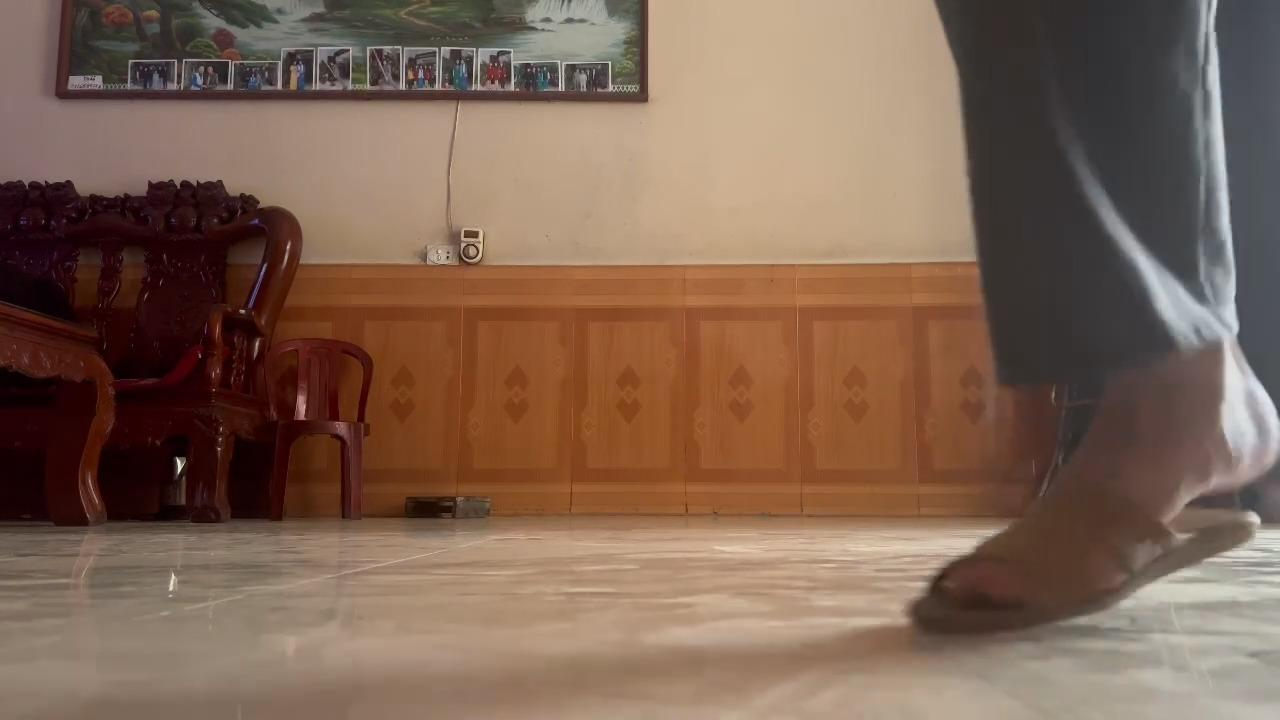no-boot: (902, 376, 1274, 668)
